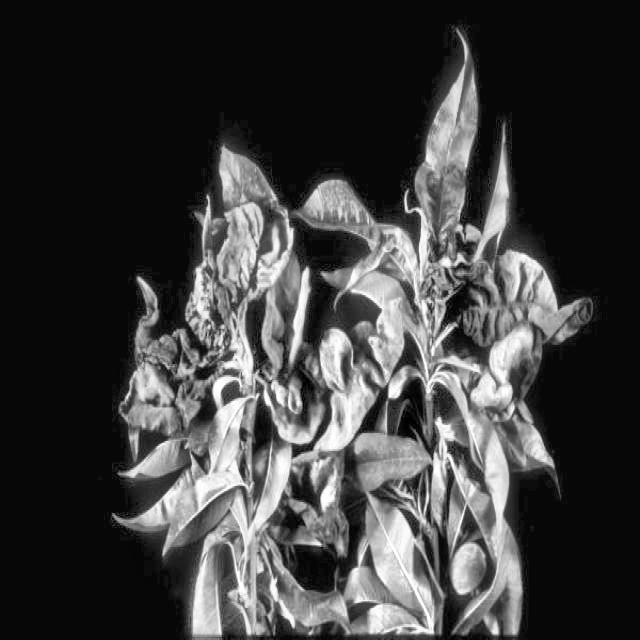plants: (113, 130, 602, 640)
